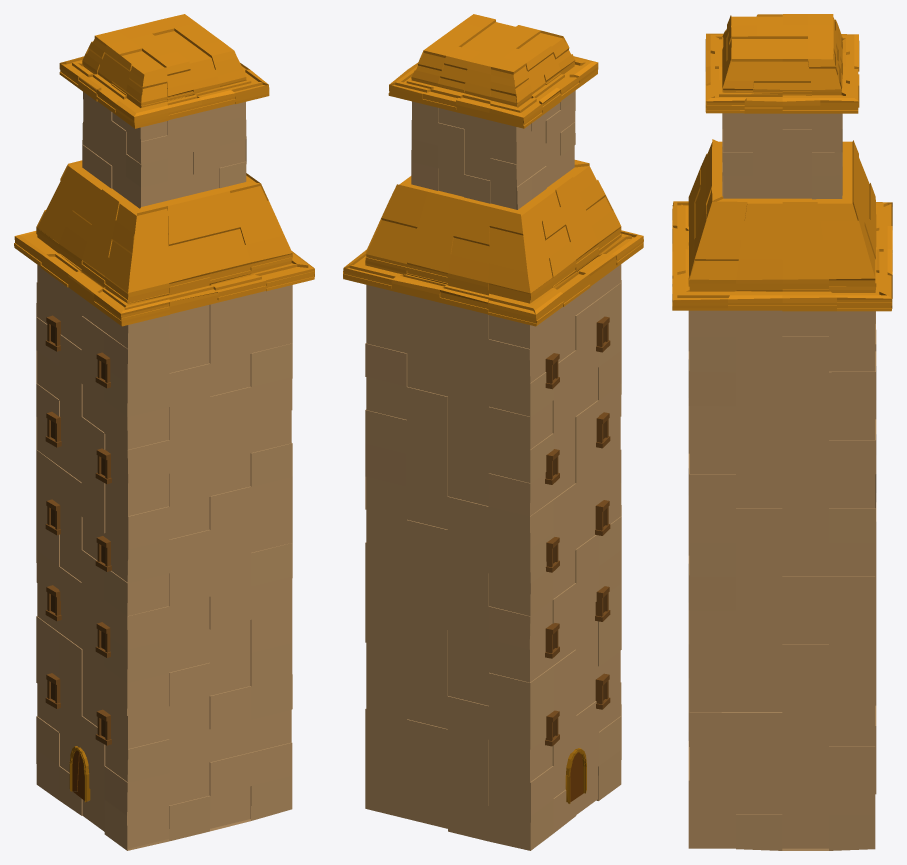
File: Compliance_Office_1.fbx
The picture shows the model from 3 angles, left to right: view 1: azimuth 30°, elevation 25°; view 2: azimuth 150°, elevation 25°; view 3: azimuth 270°, elevation 25°; orthographic projection. The views are drawn at different scales.
Visible parts, largest first — view 1: Cube, Cube.004; view 2: Cube, Cube.004; view 3: Cube.
Boxes of the visible parts, bbox=[...] form: Cube: bbox=[14, 14, 314, 850]; Cube.004: bbox=[69, 746, 90, 802]; Cube: bbox=[343, 14, 643, 850]; Cube.004: bbox=[565, 748, 586, 803]; Cube: bbox=[672, 14, 892, 850].
Size of the model in its own units: 1155 by 4294 by 1107.
